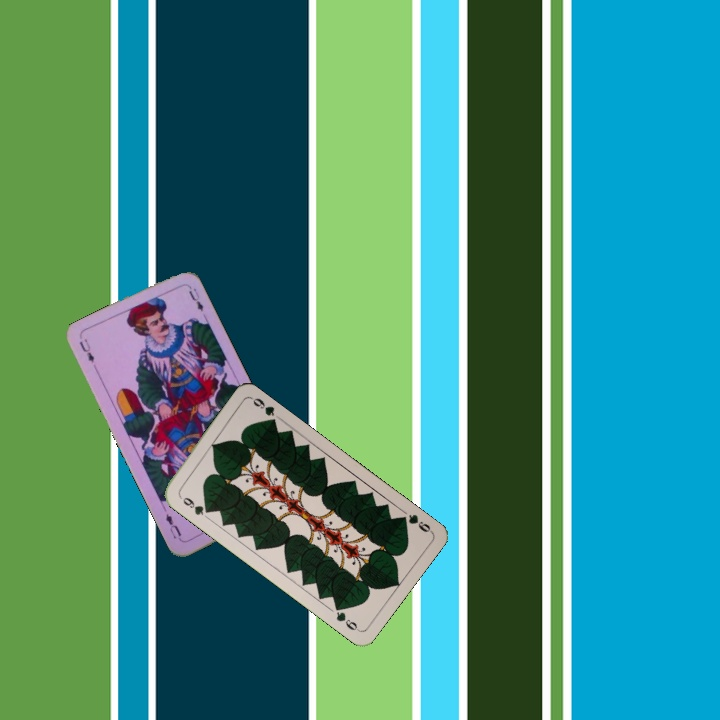EU: (75, 334, 97, 365)
G9: (175, 491, 213, 518), (395, 510, 434, 535)
